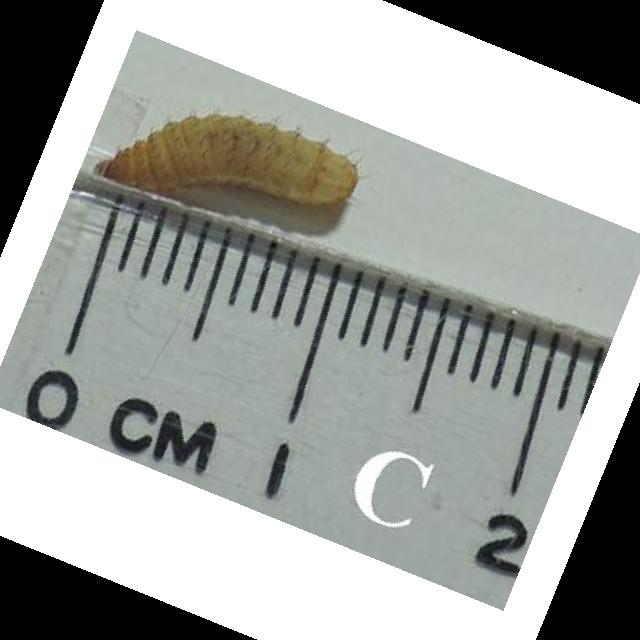Maggot: (90, 115, 365, 211)
